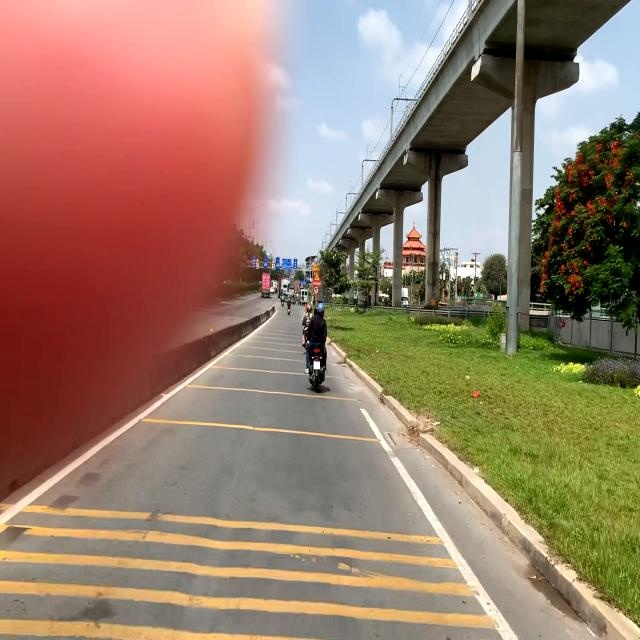bien_nguy_hiem: (314, 262, 320, 272), (313, 288, 319, 298), (314, 272, 320, 280)
